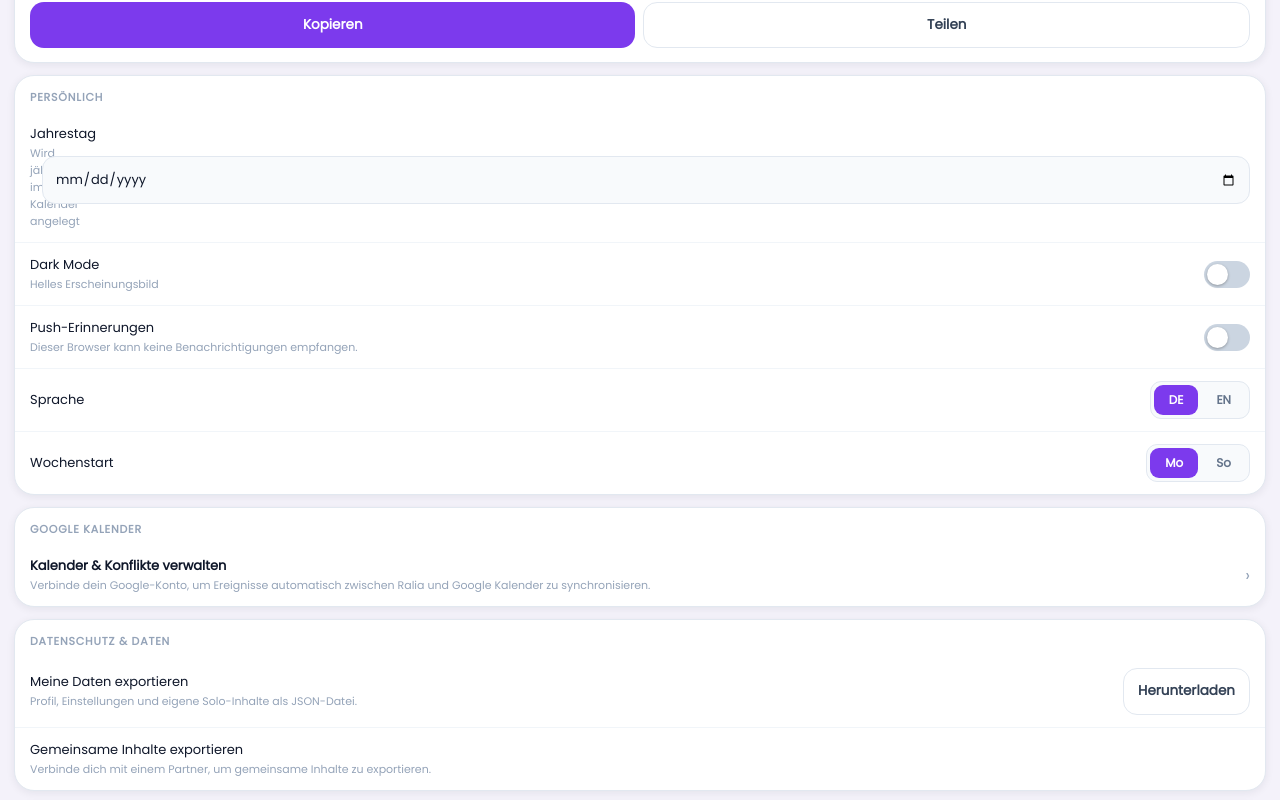
SettingsScreen › wechselt die Sprache auf Englisch
(page scrolled)
Expected: the text "Persönlich" is shown, x1=30 y1=89 x2=103 y2=105
Click the radio button labelled "EN": (1224, 400) x1=1201 y1=385 x2=1246 y2=415
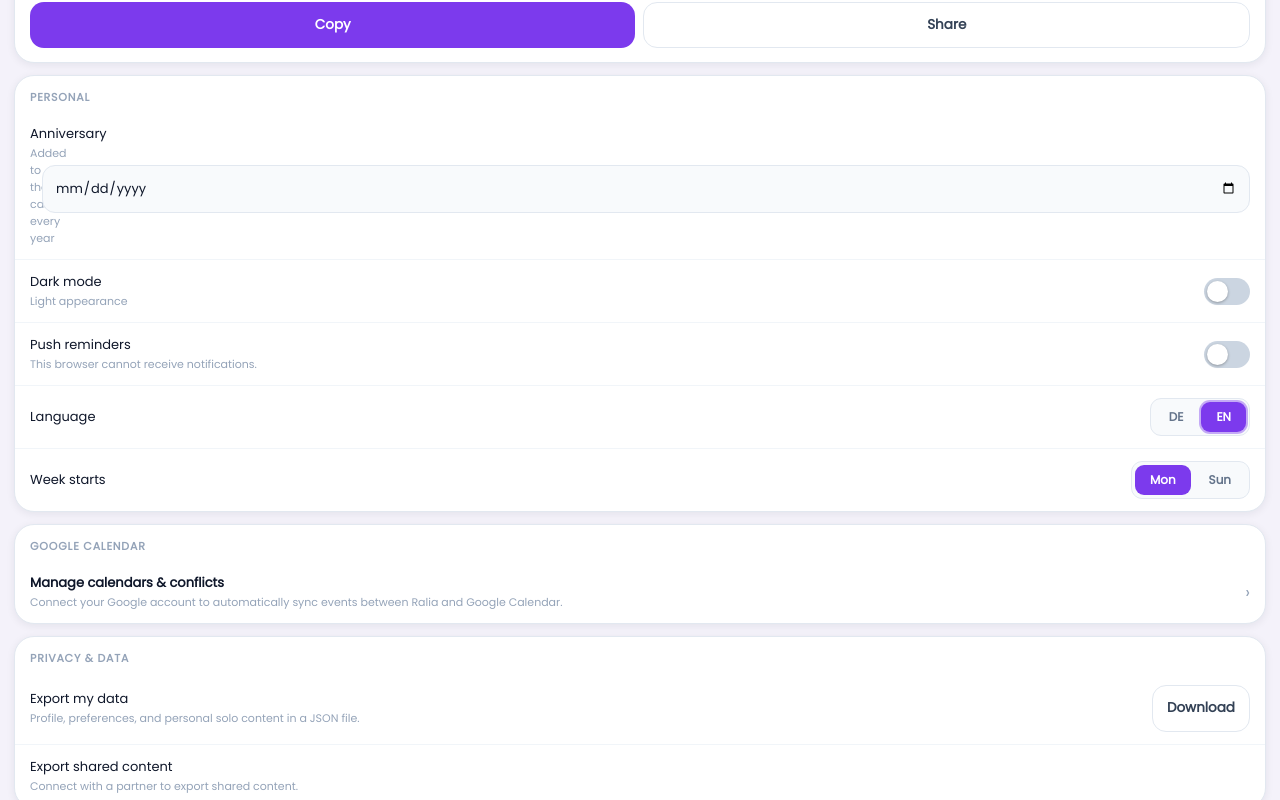
Now the text "Persönlich" is gone
Now the text "Personal" is shown, box x1=30 y1=89 x2=90 y2=105
